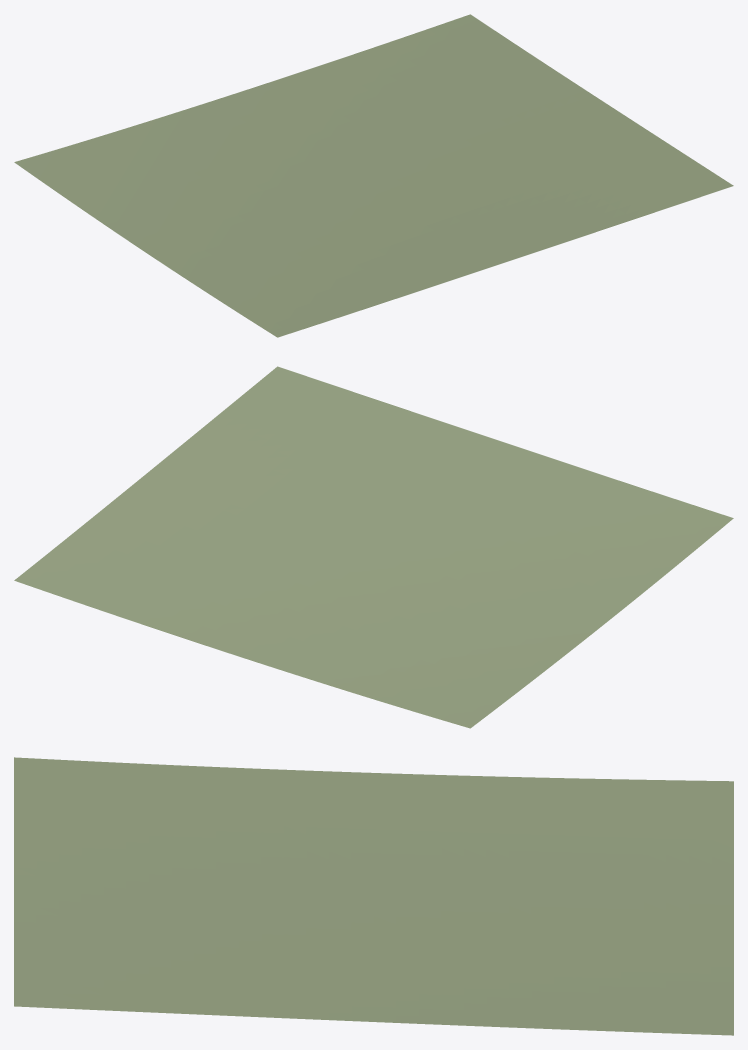
File: desert-10-24.glb
The picture shows the model from 3 angles, top to bottom: view 1: azimuth 30°, elevation 25°; view 2: azimuth 150°, elevation 25°; view 3: azimuth 270°, elevation 25°; orthographic projection. The views are drawn at different scales.
Visible parts, largest first — view 1: desert-10-24; view 2: desert-10-24; view 3: desert-10-24.
Part boxes in pixels (x1,y1,x2,y2): desert-10-24: (14, 14, 733, 337); desert-10-24: (14, 366, 733, 728); desert-10-24: (14, 757, 733, 1035).
Size of the model in its own units: 512 by 62.01 by 512.
